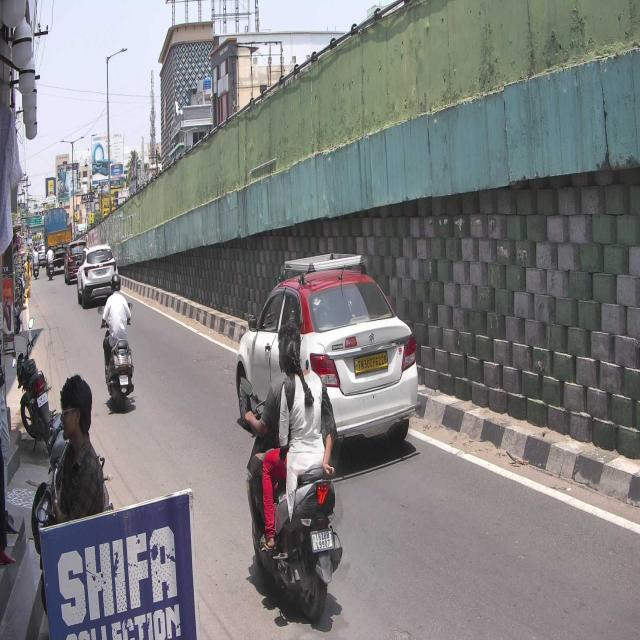double_rider: (239, 319, 343, 622)
single_rider: (98, 273, 135, 412)
